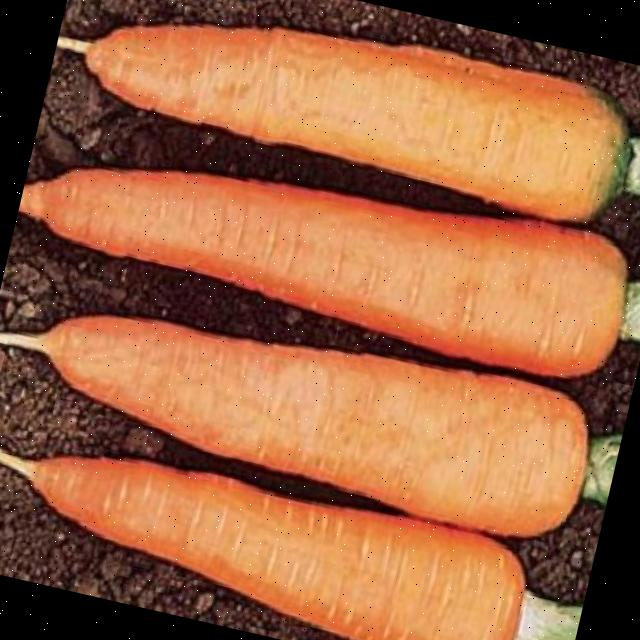carrot: (0, 316, 586, 536), (18, 168, 625, 375), (55, 24, 625, 220), (0, 450, 523, 640)
